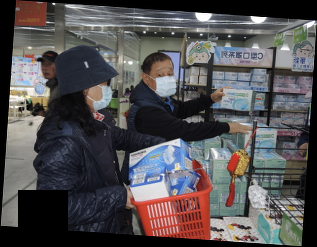with_mask: (148, 65, 178, 99), (89, 78, 113, 113)
without_mask: (40, 60, 56, 80)
